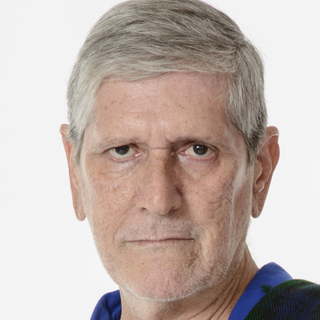eye: (172, 135, 224, 167), (97, 136, 145, 168)
